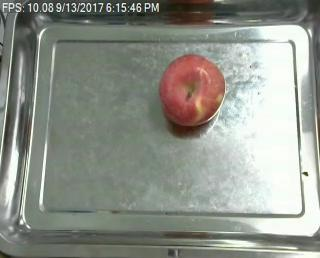apple: (158, 53, 227, 127)
